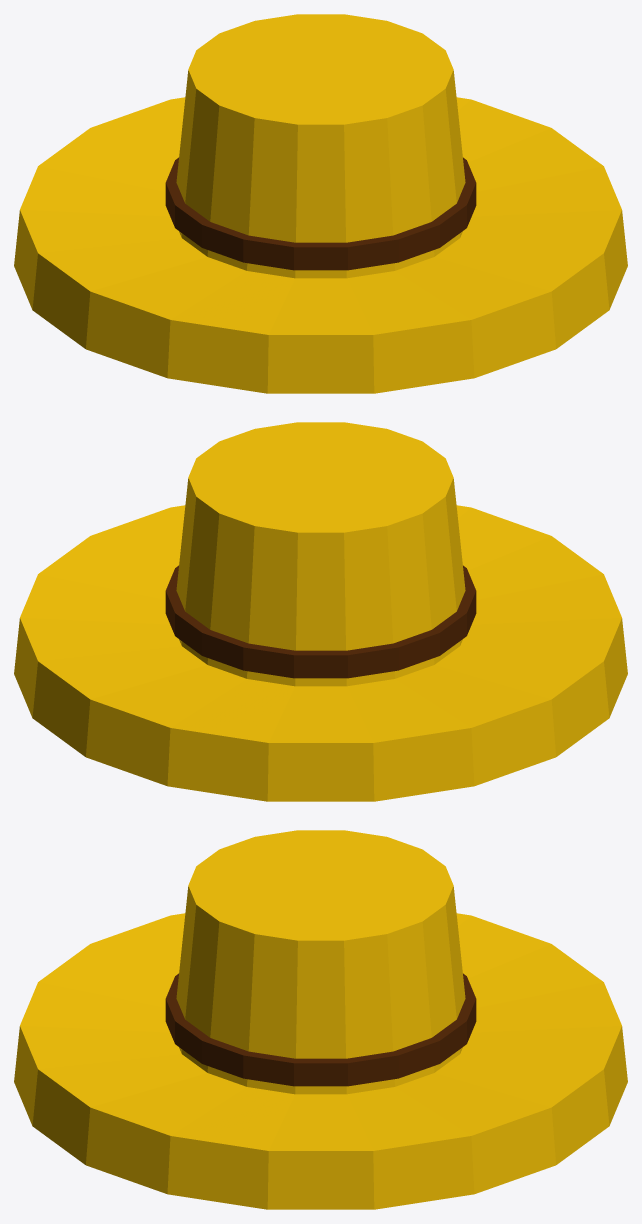
The model's file is chicken_acc_strawhat.fbx.
3 renders of one model, top to bottom at view 1: azimuth 30°, elevation 25°; view 2: azimuth 150°, elevation 25°; view 3: azimuth 270°, elevation 25°, orthographic.
Parts seen in each view (by area): view 1: Cylinder; view 2: Cylinder; view 3: Cylinder.
Boxes of the visible parts, left/top/right/bottom form: Cylinder: left=14, top=14, right=627, bottom=393; Cylinder: left=14, top=422, right=627, bottom=801; Cylinder: left=14, top=830, right=627, bottom=1209.
Bounding box in the file's own units: 393 × 146 × 399.
